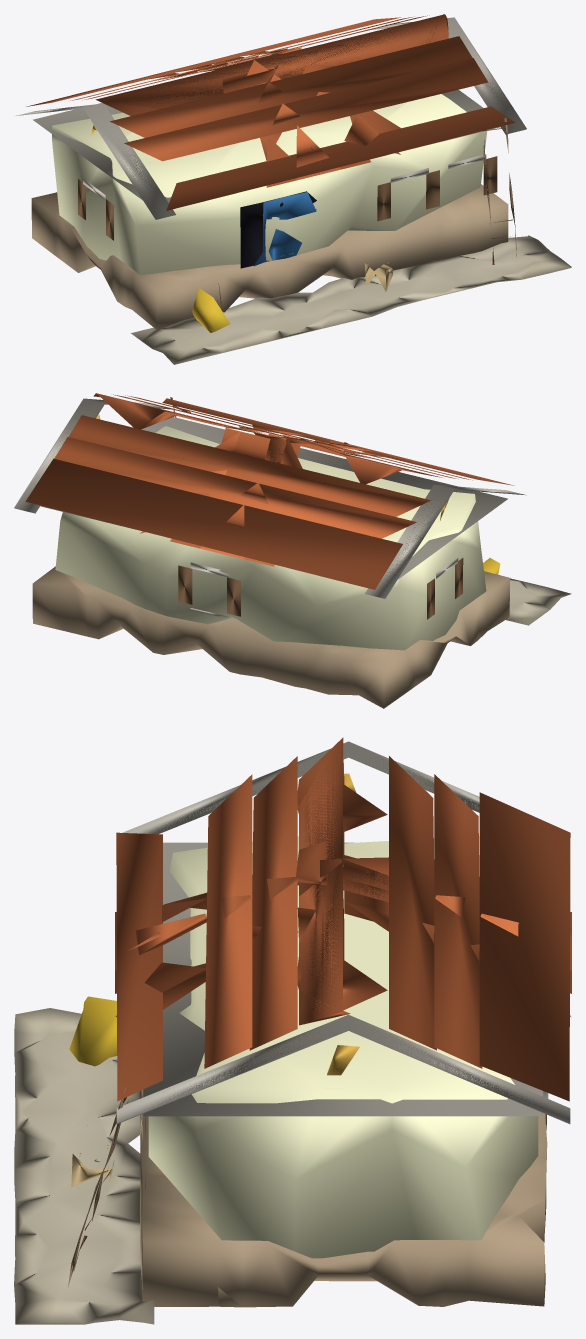
Rendered from country_barn.glb.
3 renders of one model, top to bottom at view 1: azimuth 30°, elevation 25°; view 2: azimuth 150°, elevation 25°; view 3: azimuth 270°, elevation 25°, orthographic. The views are drawn at different scales.
Parts seen in each view (by area): view 1: plaster, drystone, terracotta1, paving, terracotta2, terracotta0, marble, wood_dark, azure_wood, dark, hay.001, wood (+1 smaller); view 2: plaster, terracotta1, drystone, terracotta0, terracotta2, marble, paving, wood_dark; view 3: plaster, terracotta1, paving, drystone, terracotta0, terracotta2, marble, hay.001, wood, gold.
Boxes of the visible parts, x1,y1,x2,y2 form: plaster: (52,94,487,275); drystone: (31,184,508,329); terracotta1: (26,14,514,210); paving: (131,235,571,364); terracotta2: (70,16,488,180); terracotta0: (82,15,472,187); marble: (14,17,526,219); wood_dark: (78,127,512,240); azure_wood: (254,192,316,266); dark: (240,191,316,268); hay.001: (192,288,230,332); wood: (218,117,516,309); plaster: (55,426,486,650); terracotta1: (25,393,513,589); drystone: (32,566,509,708); terracotta0: (68,394,458,566); terracotta2: (54,395,472,559); marble: (14,398,526,618); paving: (506,578,571,625); wood_dark: (173,405,463,619); plaster: (148,836,538,1258); terracotta1: (115,737,571,1101); paving: (14,1008,154,1324); drystone: (139,1089,547,1307); terracotta0: (115,756,571,1050); terracotta2: (115,774,571,1068); marble: (116,741,570,1143); hay.001: (69,996,117,1066); wood: (68,1087,128,1287); gold: (327,773,359,1075).
Size of the model in its own units: 10.38 by 4.77 by 7.87.
